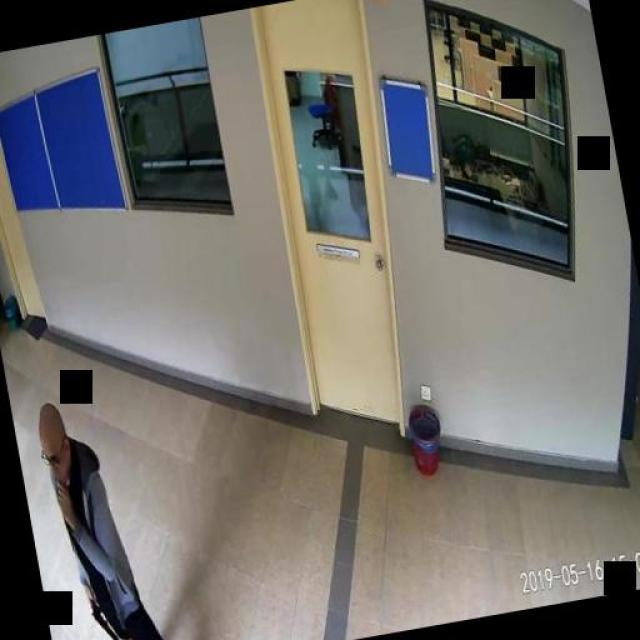gun: (86, 599, 115, 640)
